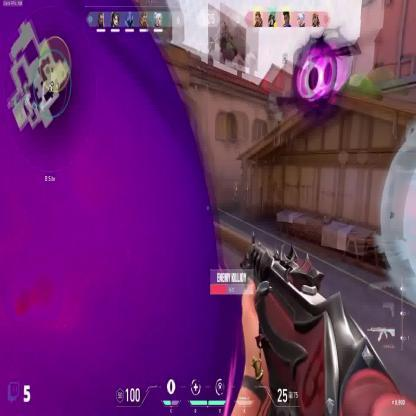enemy: (242, 180, 249, 204), (233, 180, 238, 206)
enemy_head: (244, 180, 248, 188), (234, 182, 237, 187)
